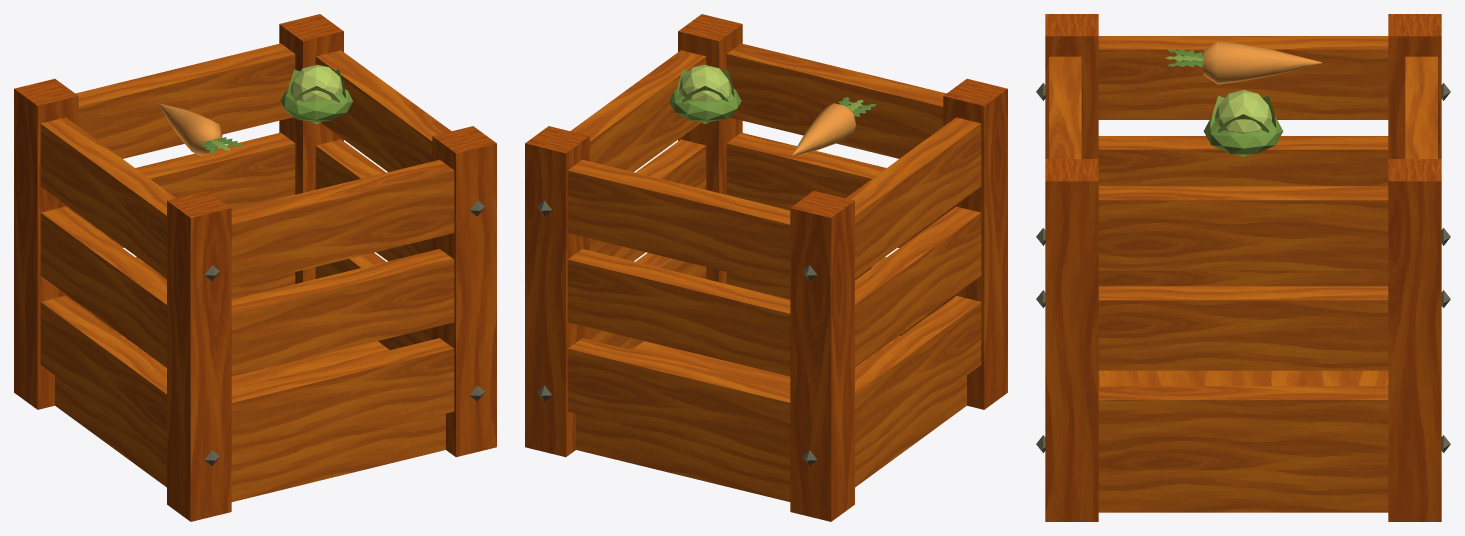
File: farm-collection-box-5.gltf
3 views of the same model, side by side, from view 1: azimuth 30°, elevation 25°; view 2: azimuth 150°, elevation 25°; view 3: azimuth 270°, elevation 25° (orthographic). The views are drawn at different scales.
Parts seen in each view (by area): view 1: farm-collection-box-5; view 2: farm-collection-box-5; view 3: farm-collection-box-5.
Boxes of the visible parts, x1,y1,x2,y2 form: farm-collection-box-5: (14, 14, 496, 521); farm-collection-box-5: (525, 14, 1007, 521); farm-collection-box-5: (1036, 14, 1450, 521).
Bounding box in the file's own units: 0.8002 × 0.8448 × 0.8382.
Materials: 2 (1 with a texture image).
